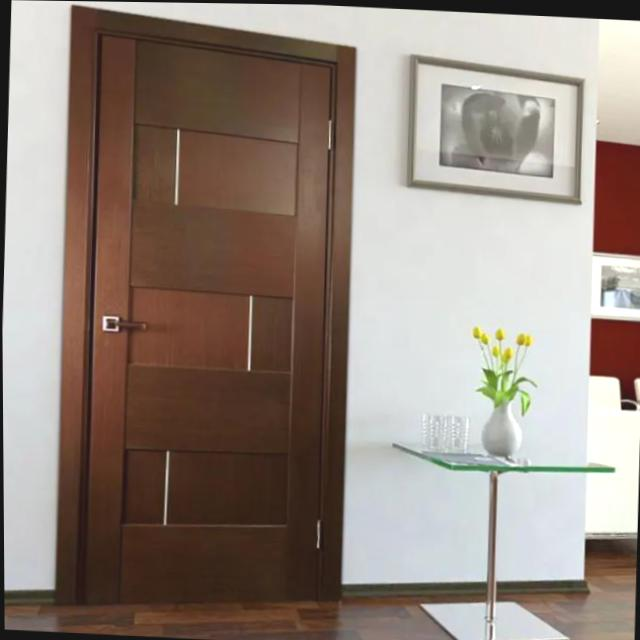close: (43, 1, 373, 618)
